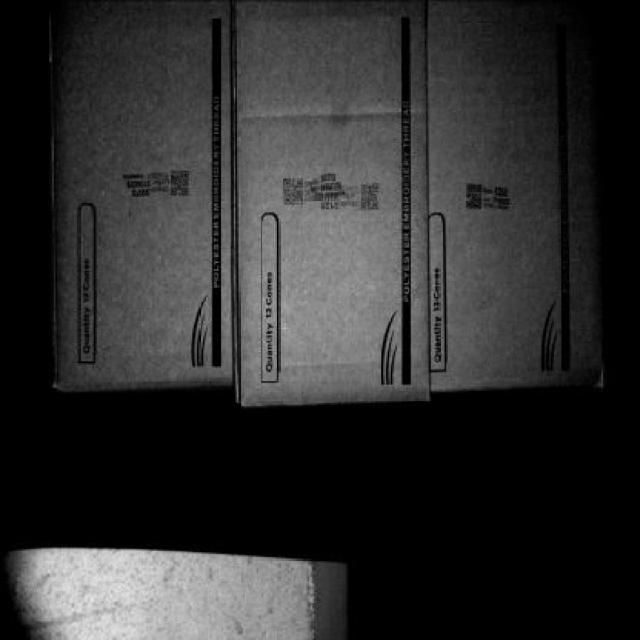cardboxes: (237, 12, 429, 402), (53, 12, 235, 380), (431, 11, 607, 389)
